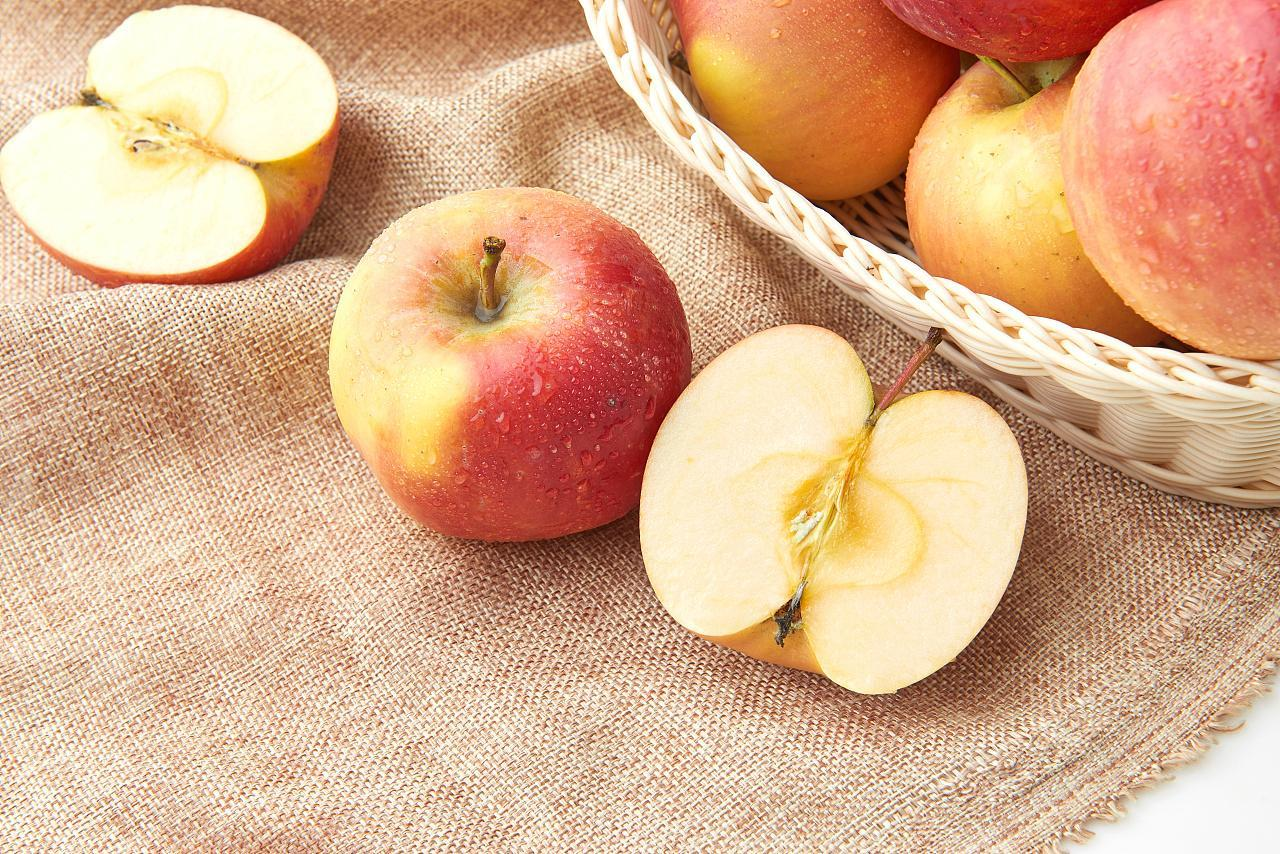apple: (325, 185, 692, 545), (906, 48, 1165, 353), (673, 1, 958, 199)
